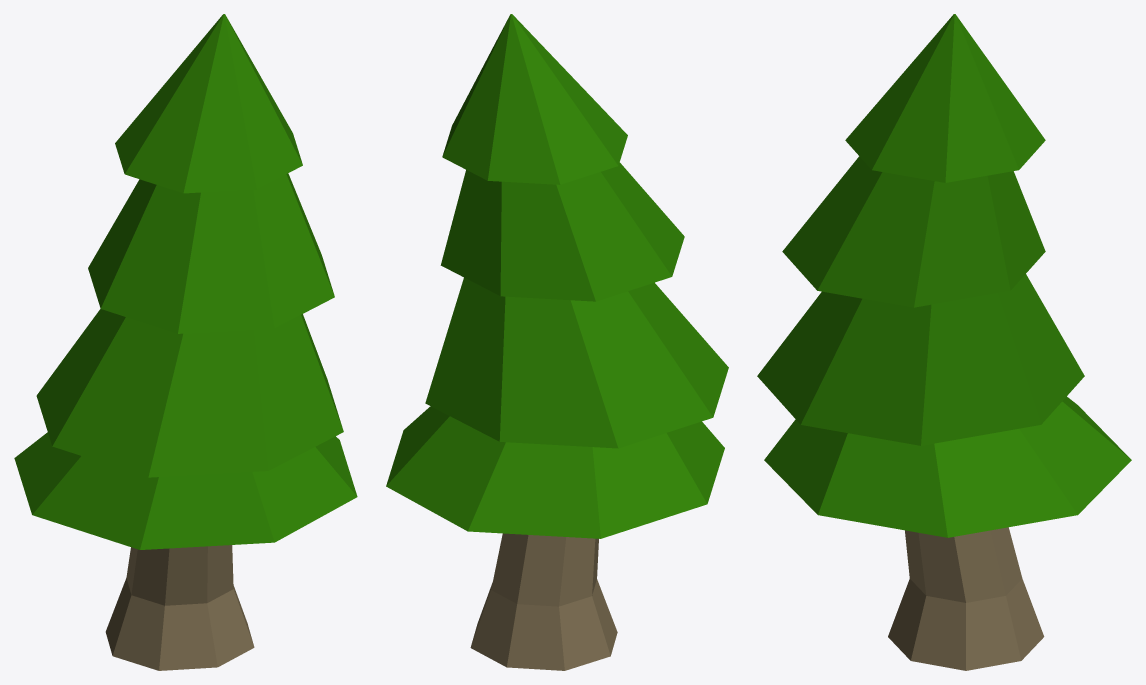
Rendered from pineTree02.glb.
3 views of the same model, side by side, from view 1: azimuth 30°, elevation 25°; view 2: azimuth 150°, elevation 25°; view 3: azimuth 270°, elevation 25° (orthographic). The views are drawn at different scales.
Parts seen in each view (by area): view 1: Cylinder, Cylinder.001; view 2: Cylinder, Cylinder.001; view 3: Cylinder, Cylinder.001.
Boxes of the visible parts, left/top/right/bottom form: Cylinder: left=14, top=14, right=357, bottom=549; Cylinder.001: left=105, top=545, right=254, bottom=670; Cylinder: left=386, top=14, right=728, bottom=538; Cylinder.001: left=470, top=533, right=617, bottom=670; Cylinder: left=757, top=14, right=1131, bottom=537; Cylinder.001: left=888, top=527, right=1044, bottom=670.
Size of the model in its own units: 4.48 by 8.62 by 4.56.
